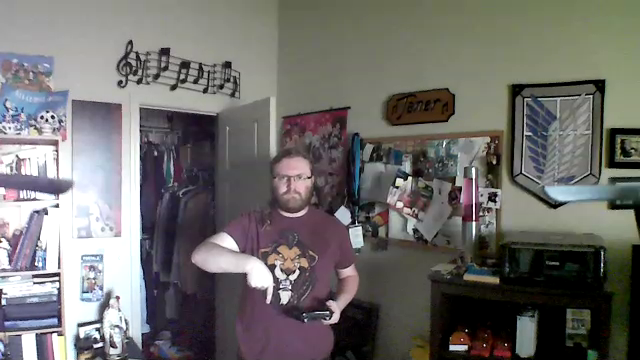down: (244, 251, 276, 310)
